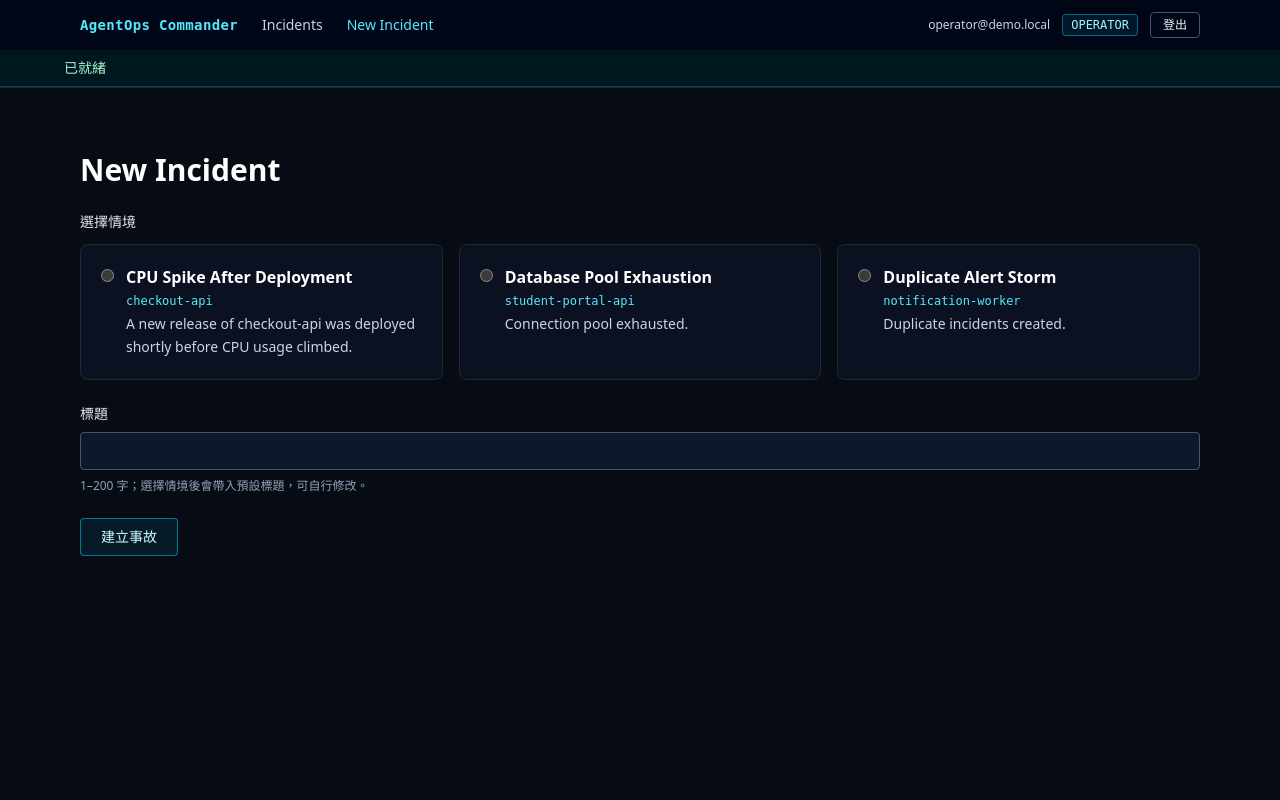
Scenario: /incidents/new › 失敗：顯示友善訊息，不顯示原始 detail，留在本頁可再送
Click the radio button labelled "CPU Spike After Deployment".
click(108, 276)  # box [101,269,114,282]
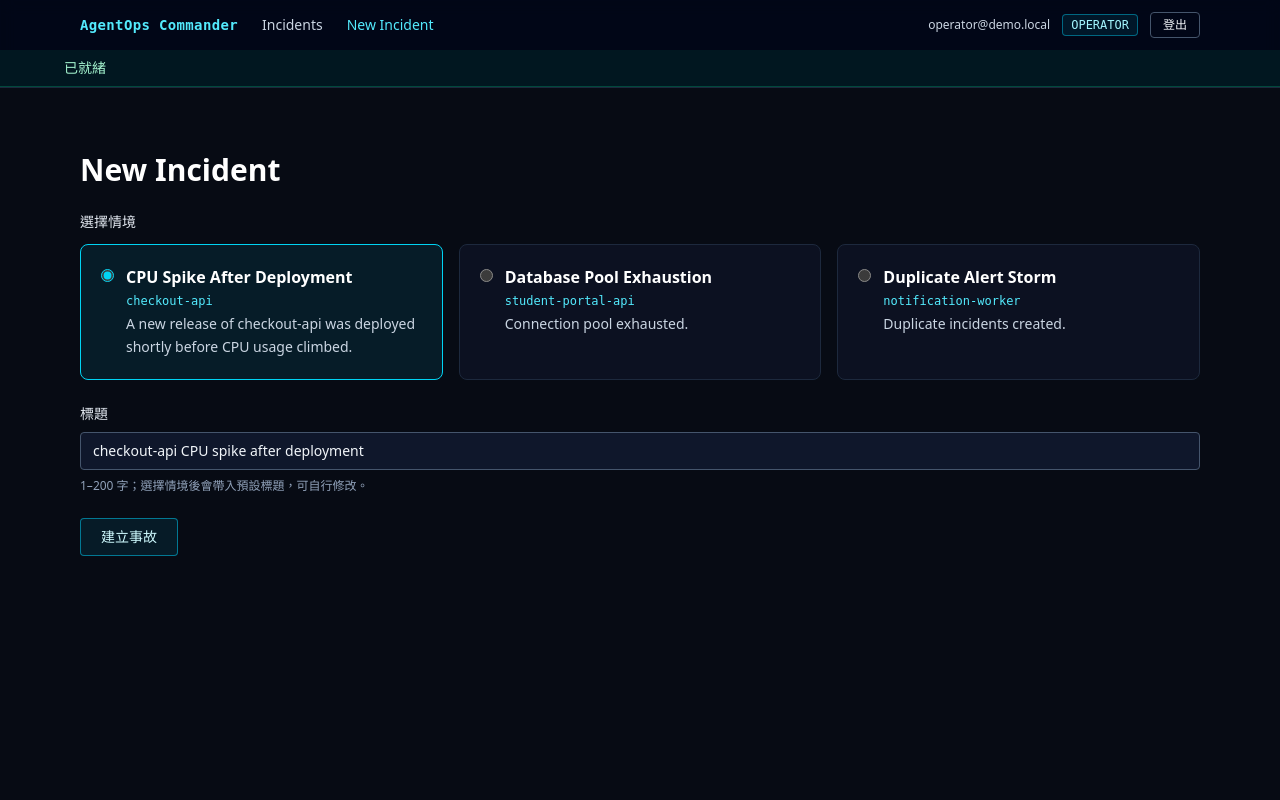
Click the button "建立事故".
click(129, 536)  # box [80,518,178,556]
Wait 60 ms
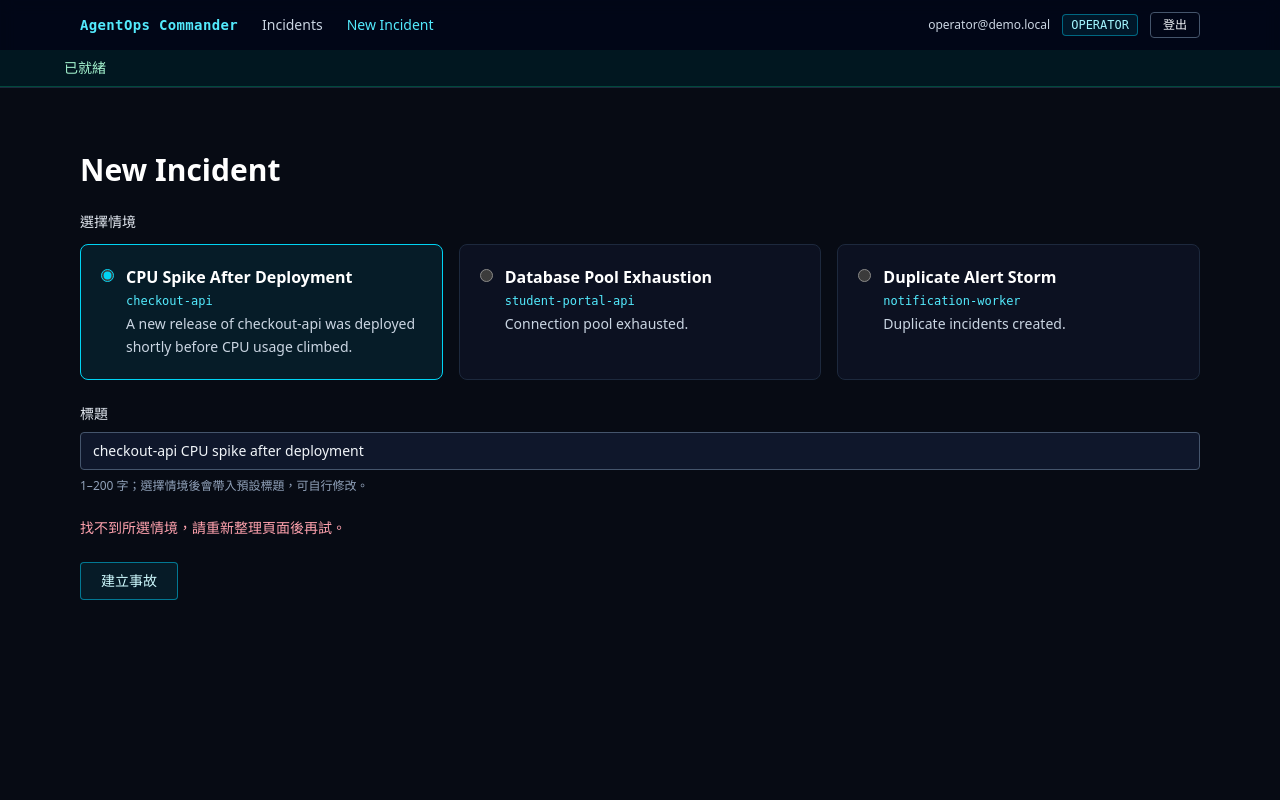
Expected: the button "建立事故" is enabled, [80,562,178,600]
Expected: the text "找不到所選情境，請重新整理頁面後再試。" is shown, [80,518,346,536]
